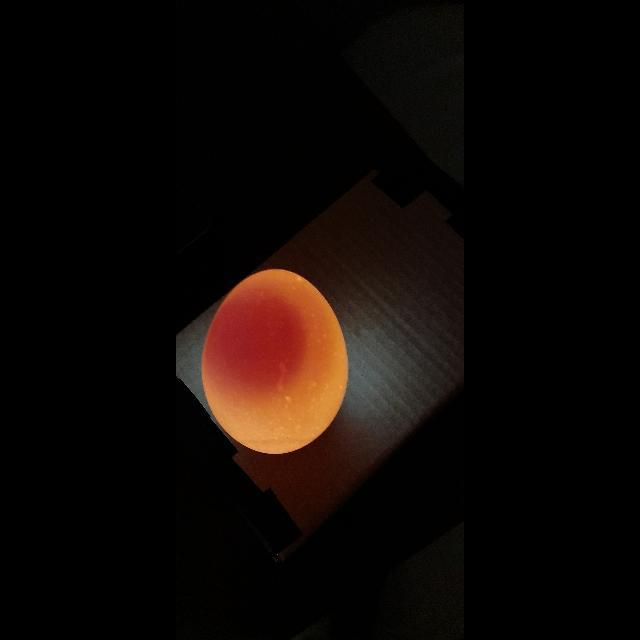Fertile: (201, 262, 349, 458)
